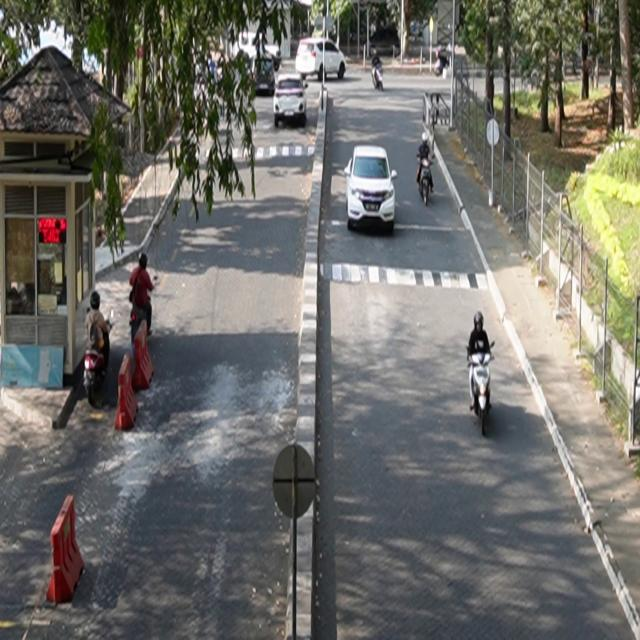car: (345, 146, 398, 233), (296, 38, 347, 82), (274, 71, 308, 128)
